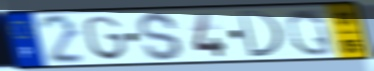2: (39, 12, 91, 67)
4: (192, 11, 229, 59)
D: (235, 9, 286, 59)
G: (81, 14, 130, 62)
Q: (285, 7, 337, 58)
S: (136, 11, 186, 63)
